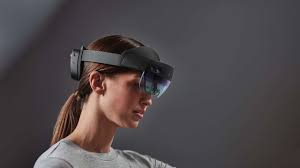hololens: (68, 43, 176, 102)
